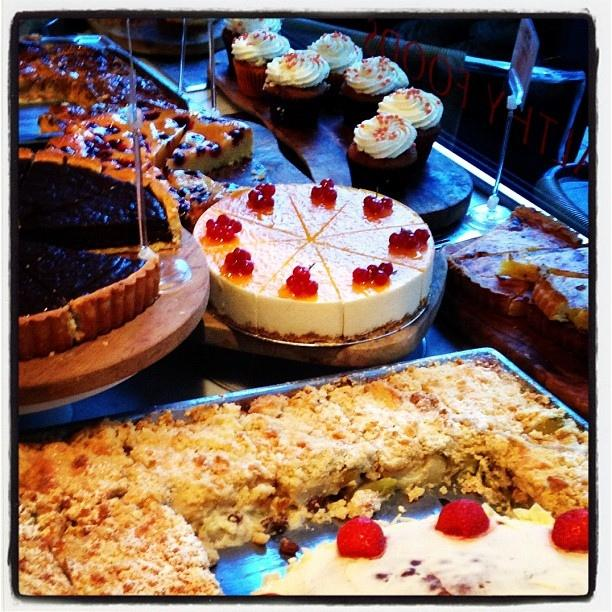cherry: (336, 516, 386, 560), (434, 500, 489, 538), (552, 507, 588, 552), (286, 274, 308, 294), (371, 270, 388, 286), (292, 266, 311, 280), (380, 196, 396, 212), (370, 198, 384, 215), (322, 187, 337, 202), (240, 260, 254, 276), (262, 182, 276, 198), (405, 234, 418, 248), (413, 228, 425, 242), (248, 189, 260, 202), (227, 262, 241, 273), (255, 194, 266, 207), (232, 220, 243, 233), (216, 228, 224, 237)
raspberry: (434, 498, 489, 538), (336, 517, 386, 559), (552, 508, 588, 552), (285, 266, 318, 298), (224, 248, 254, 276), (322, 187, 338, 208), (262, 183, 276, 197), (367, 264, 378, 280), (216, 214, 230, 225)
